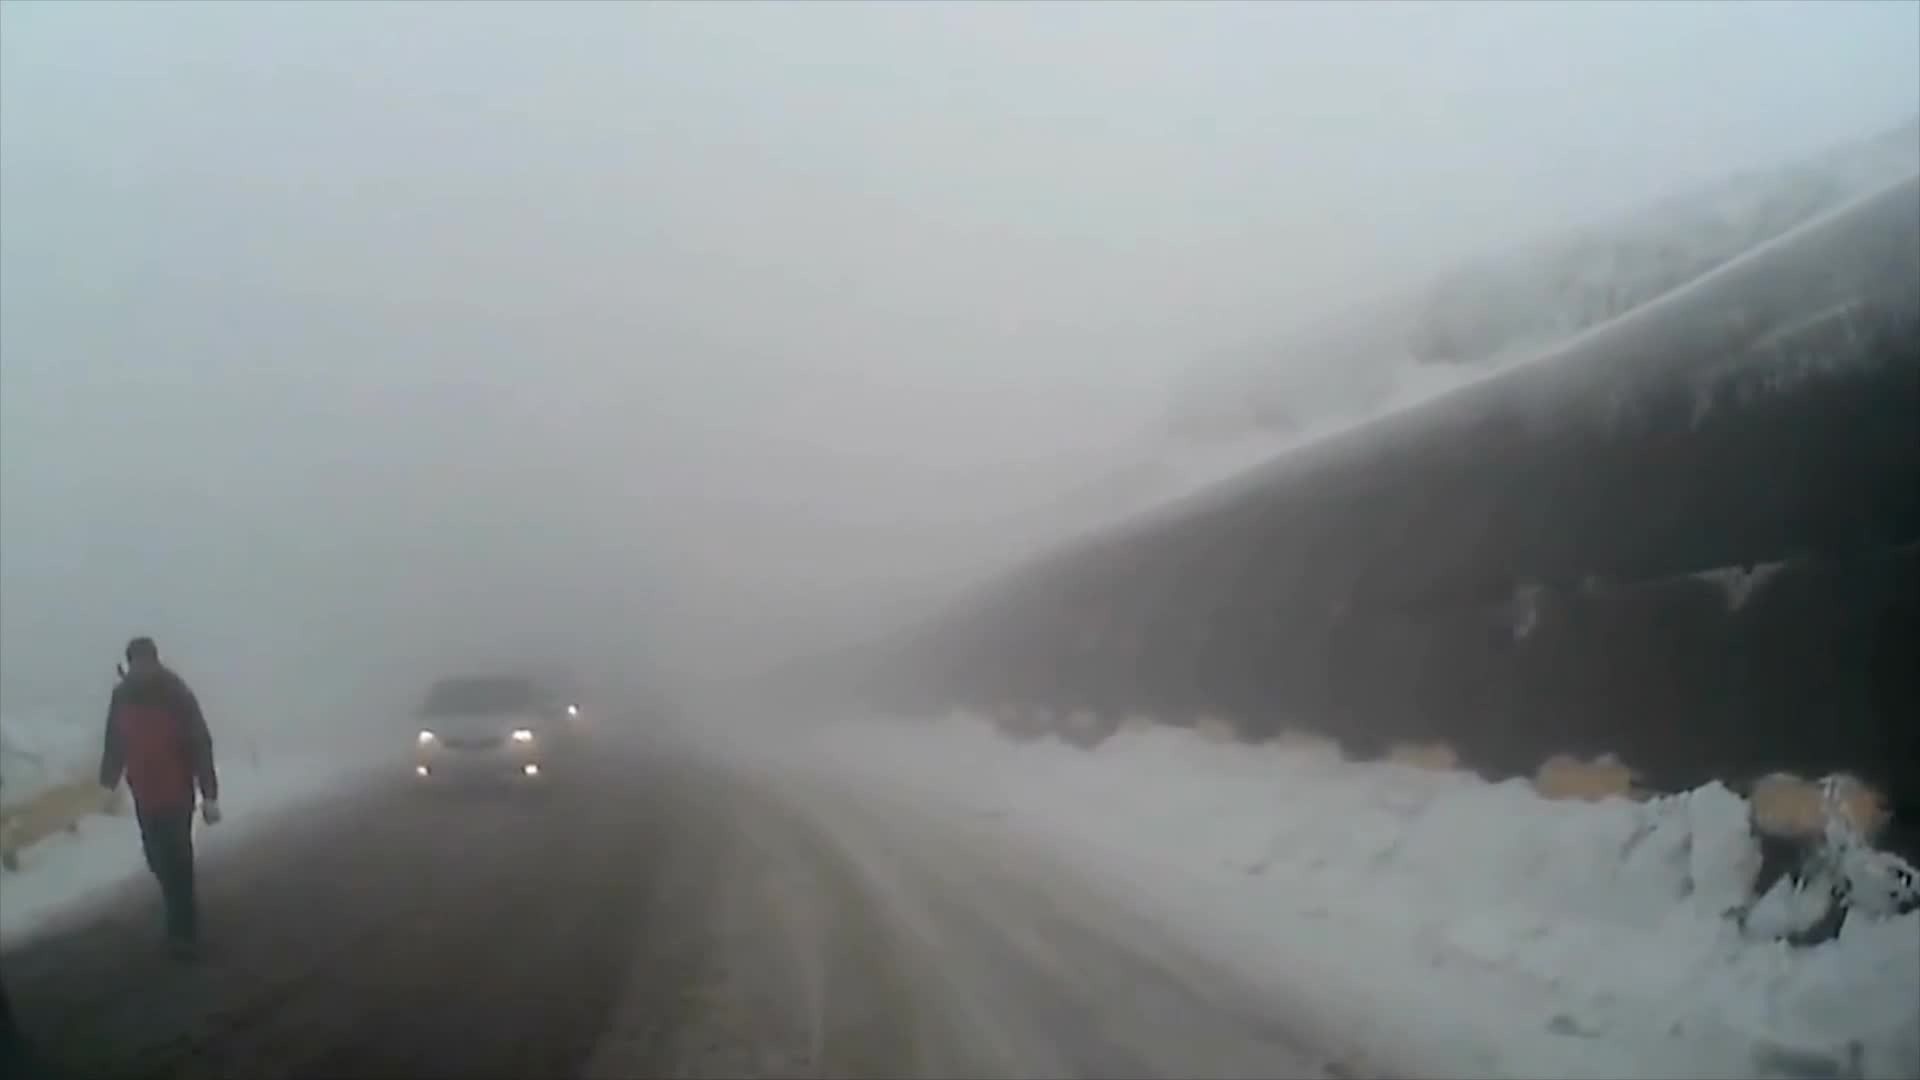pedestrian: (98, 633, 222, 945)
vehicle: (402, 670, 558, 802)
